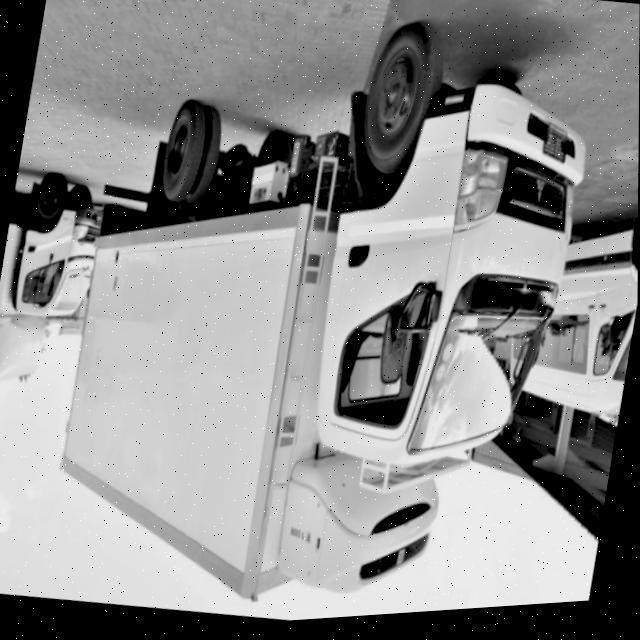truck: (41, 0, 607, 638), (0, 178, 106, 391)
